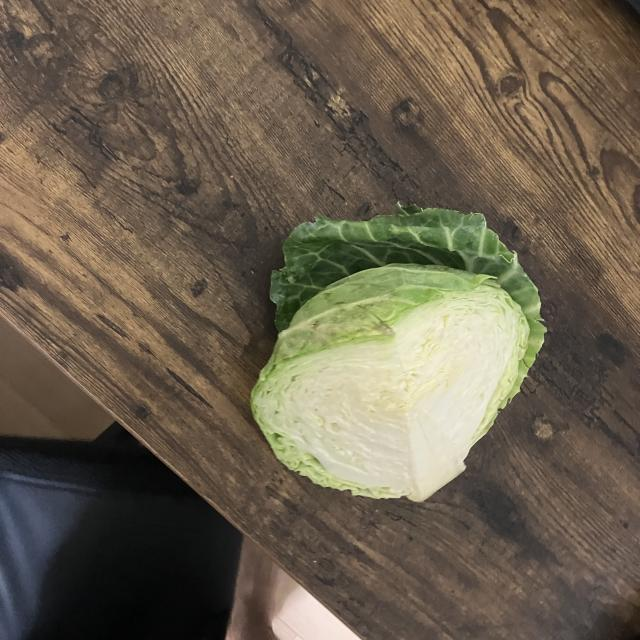cabbage: (247, 206, 548, 508)
